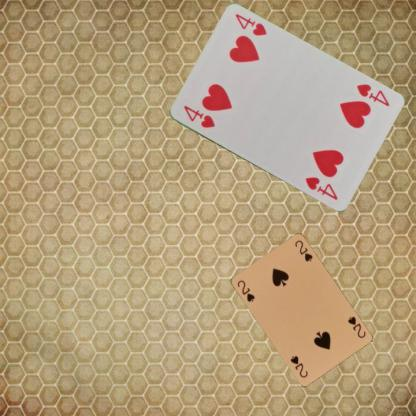2s: (345, 314, 367, 339), (235, 277, 256, 303)
4h: (354, 81, 390, 108), (180, 103, 216, 129)
